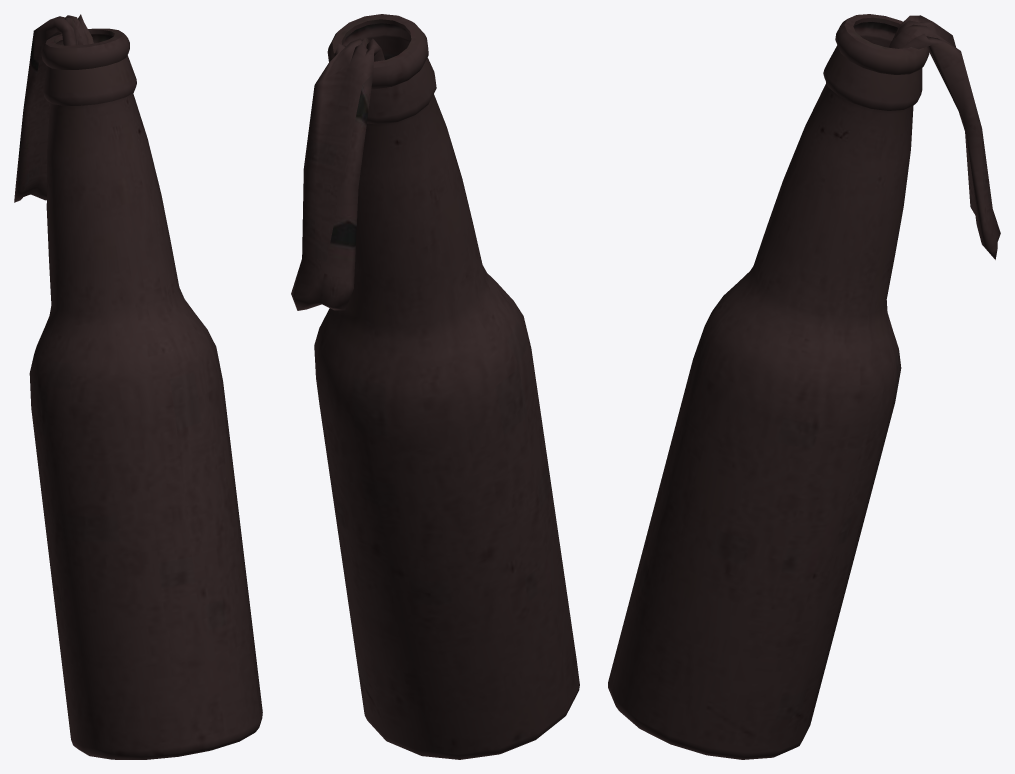
Rendered from bunker47-prop-molotov.glb.
The picture shows the model from 3 angles, left to right: view 1: azimuth 30°, elevation 25°; view 2: azimuth 150°, elevation 25°; view 3: azimuth 270°, elevation 25°; orthographic projection. The views are drawn at different scales.
Visible parts, largest first — view 1: Bottle, Fabric; view 2: Bottle, Fabric; view 3: Bottle, Fabric.
Part boxes in pixels (x1,y1,x2,y2): Bottle: (29,28,262,759); Fabric: (14,14,93,202); Bottle: (314,14,579,759); Fabric: (291,37,384,310); Bottle: (608,14,929,759); Fabric: (889,15,1000,259).
Size of the model in its own units: 5.45 by 20.69 by 10.3.
Materials: 1 (1 with a texture image).
